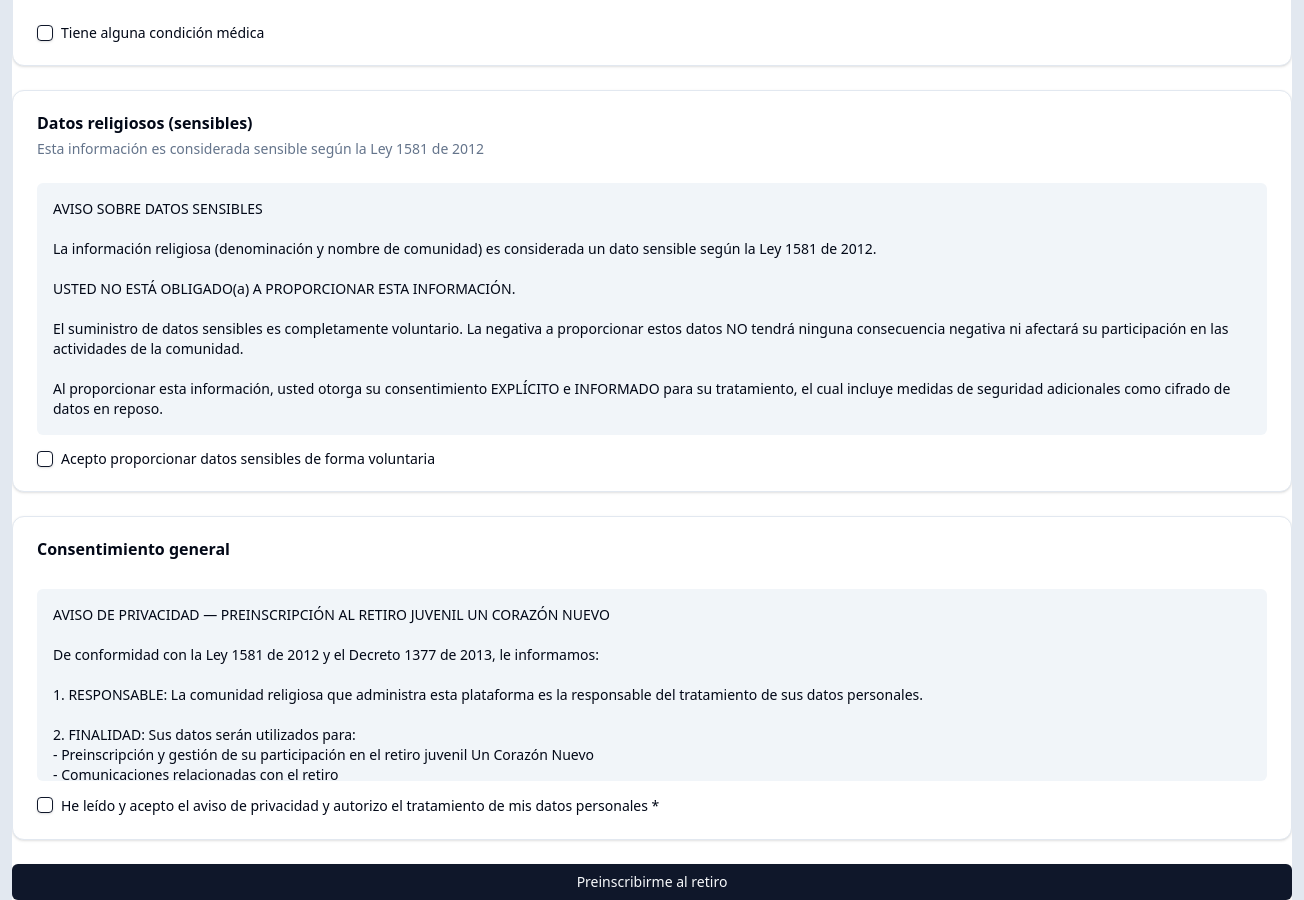
Scenario: CaptureForm initialValues prefill › toggling sensitiveConsent reveals denomination and communityName inputs
(page scrolled)
Expected: the field labelled "Denominación religiosa" is not shown
Expected: the field labelled "Nombre de la comunidad" is not shown
Click the checkbox named "Acepto proporcionar datos sensibles" below "Datos religiosos (sensibles)": (45, 459) left=37, top=451, right=53, bottom=467
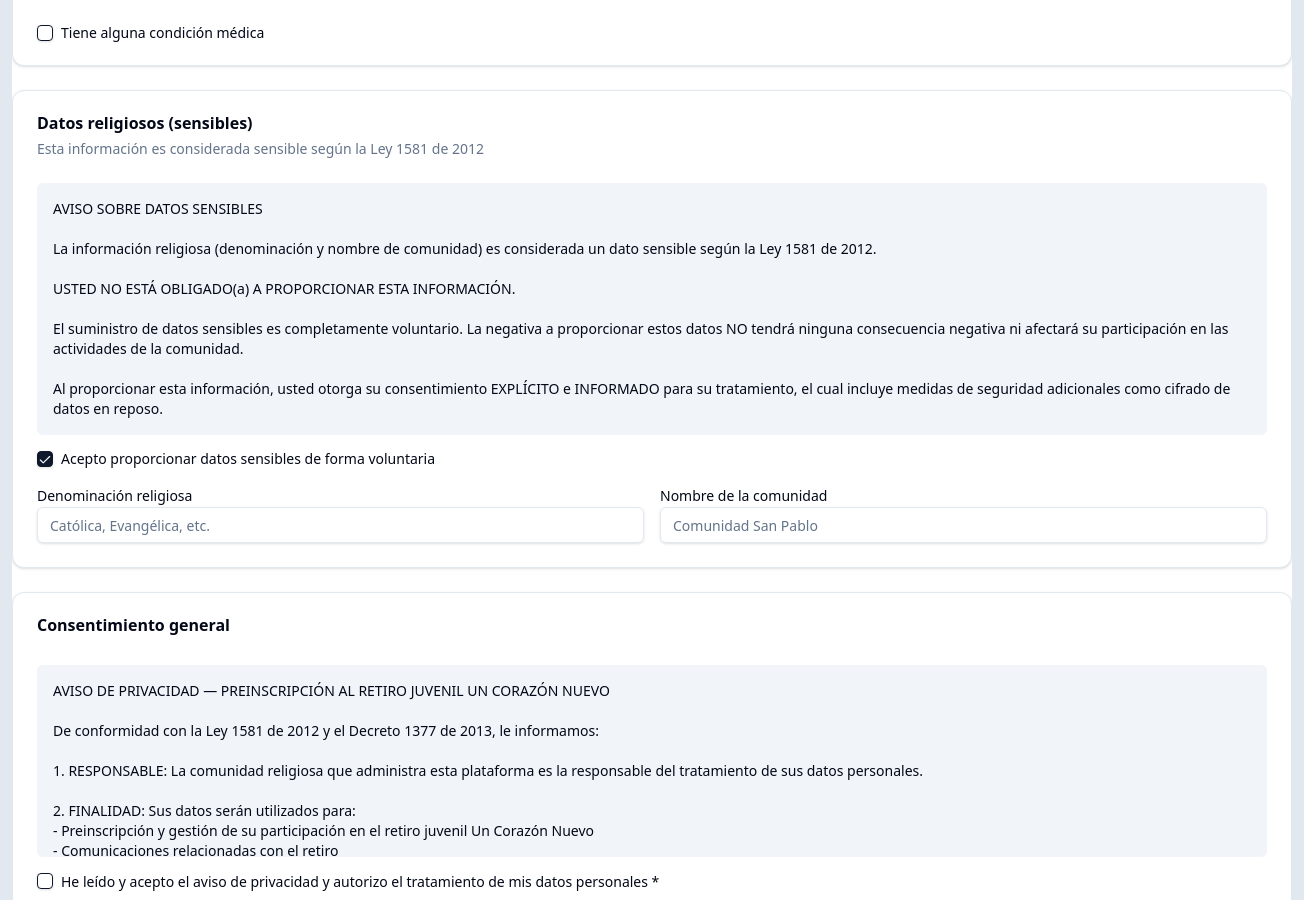
Expected: the field labelled "Denominación religiosa" is shown, left=37, top=507, right=644, bottom=543
Expected: the field labelled "Nombre de la comunidad" is shown, left=660, top=507, right=1267, bottom=543
